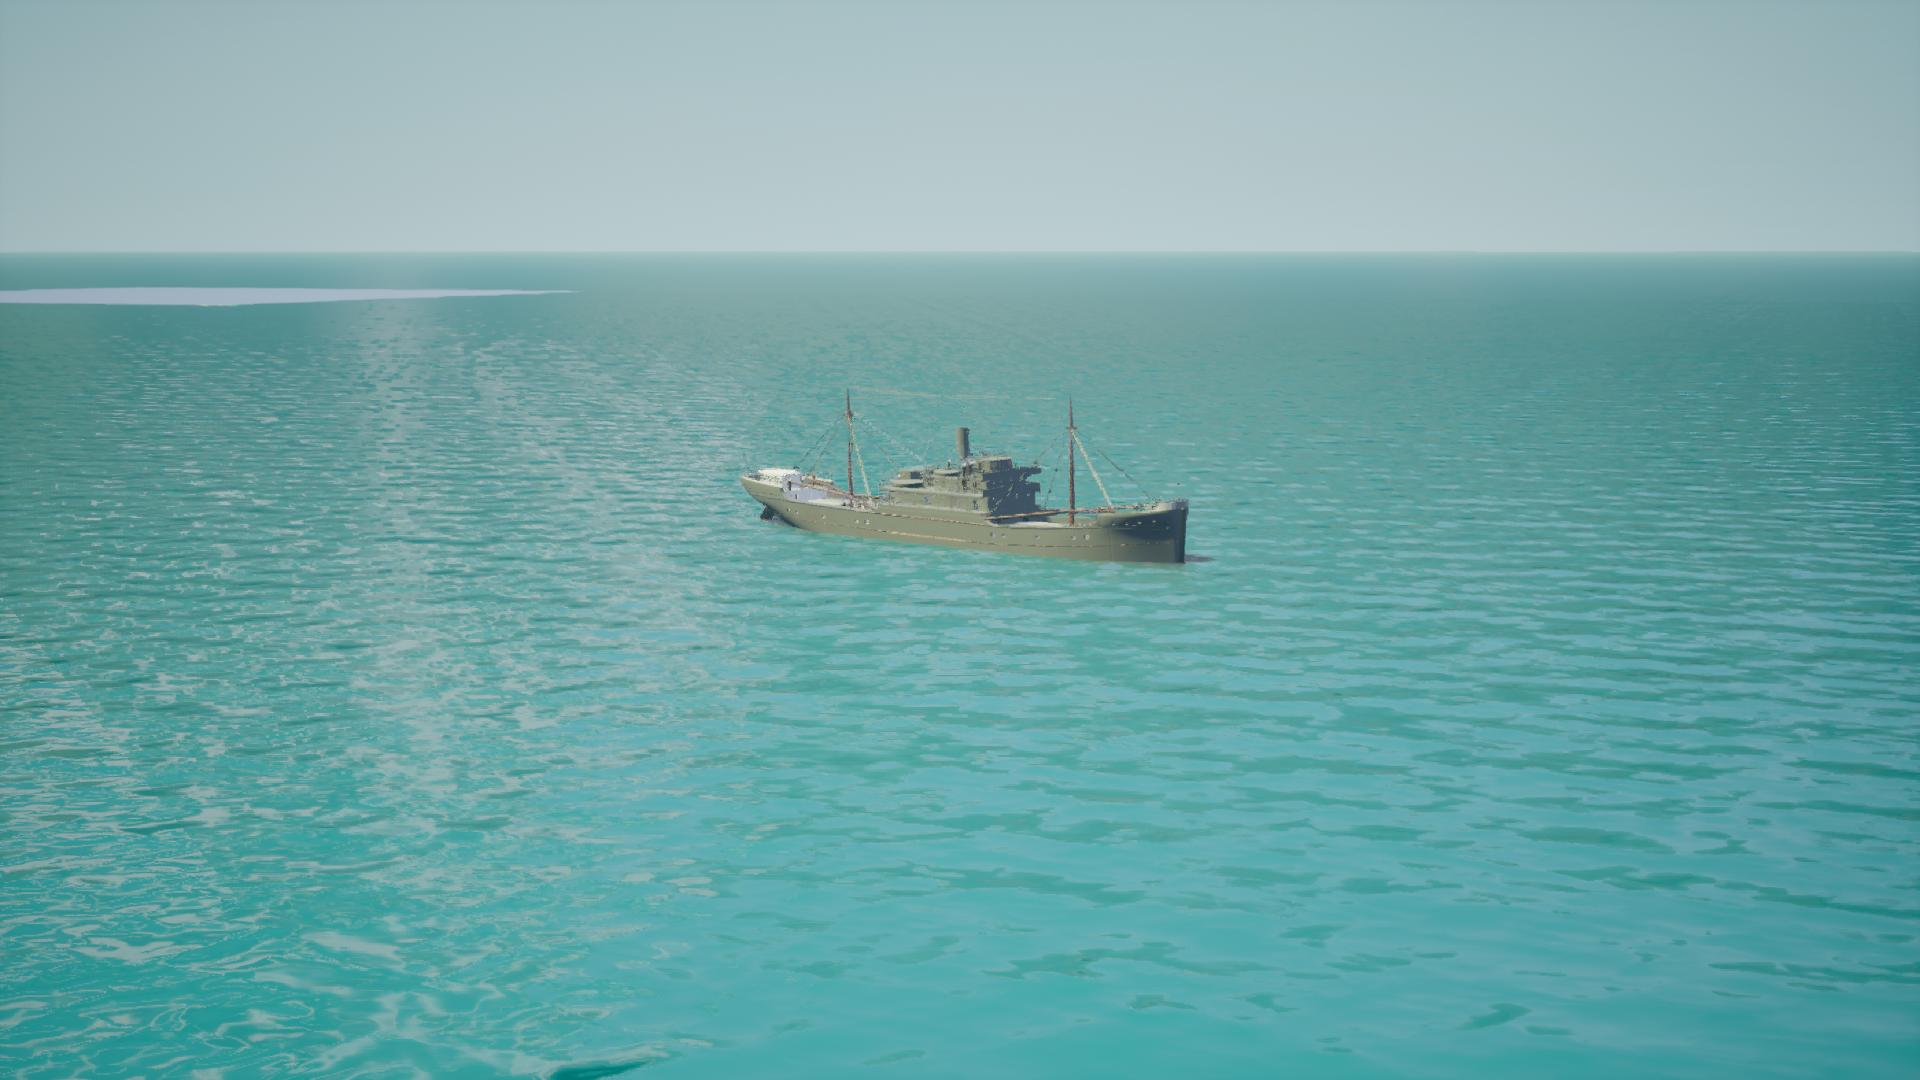Fishing Boat: (744, 397, 1187, 568)
